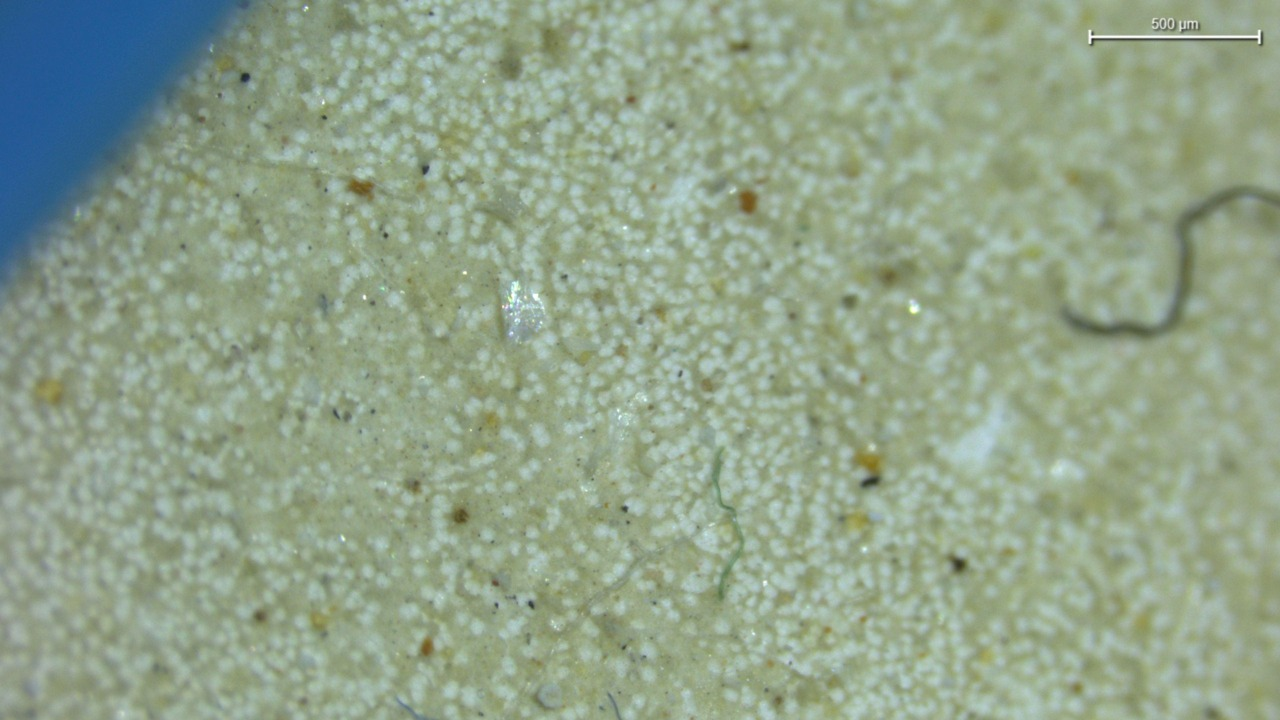microplastic_fragment: (501, 280, 547, 342), (534, 682, 563, 709)
